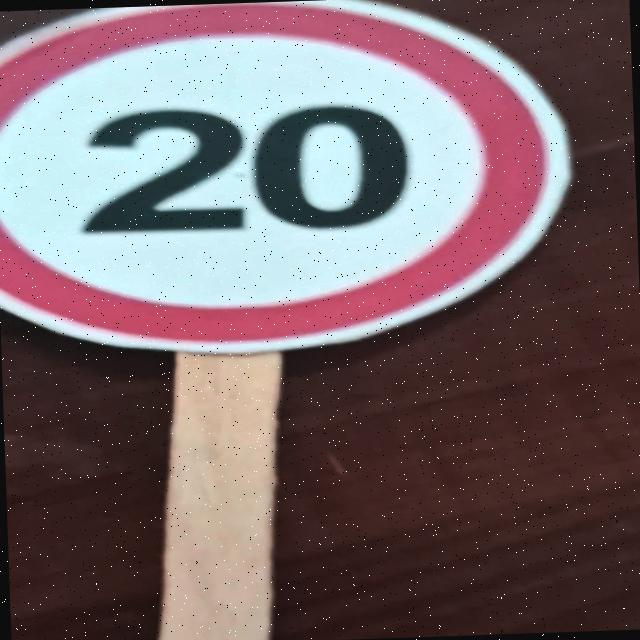Speed20: (0, 0, 588, 362)
